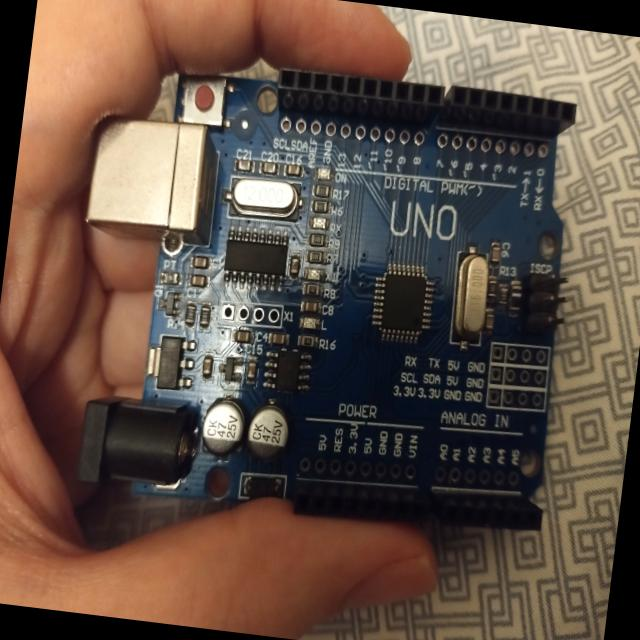arduino: (33, 39, 616, 554)
